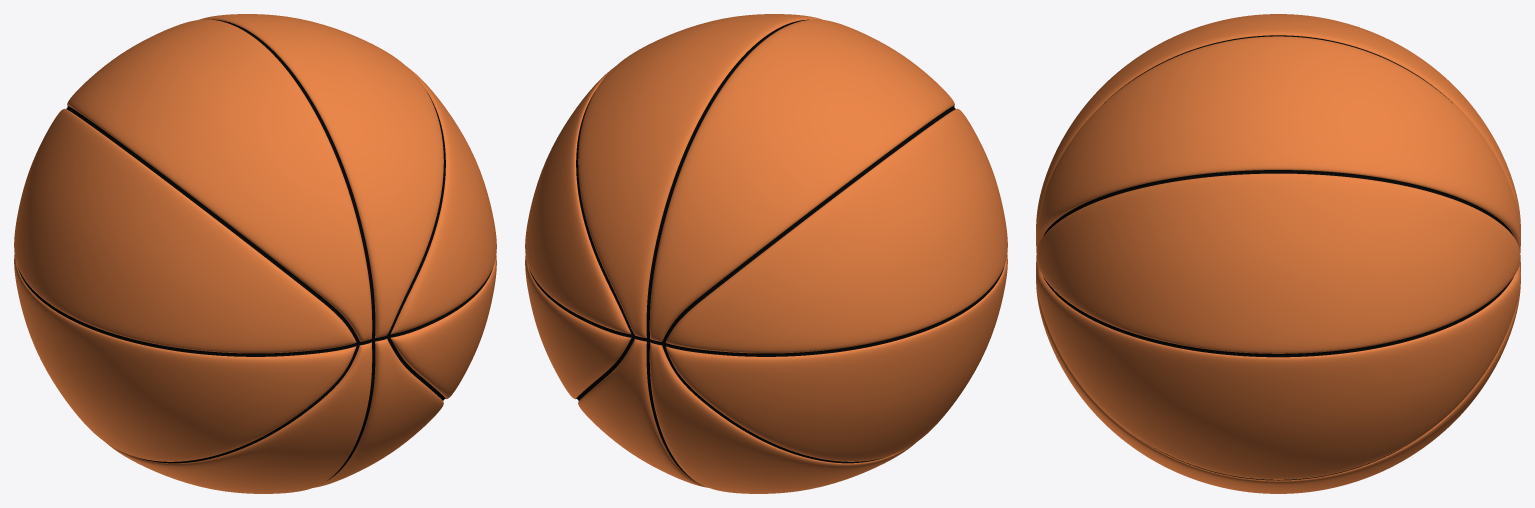
Rendered from basketball.fbx.
The picture shows the model from 3 angles, left to right: view 1: azimuth 30°, elevation 25°; view 2: azimuth 150°, elevation 25°; view 3: azimuth 270°, elevation 25°; orthographic projection.
Visible parts, largest first — view 1: Basketball; view 2: Basketball; view 3: Basketball.
Part boxes in pixels (x1,y1,x2,y2): Basketball: [14, 14, 496, 493]; Basketball: [525, 14, 1007, 493]; Basketball: [1036, 14, 1520, 493].
Size of the model in its own units: 196 by 196 by 196.
